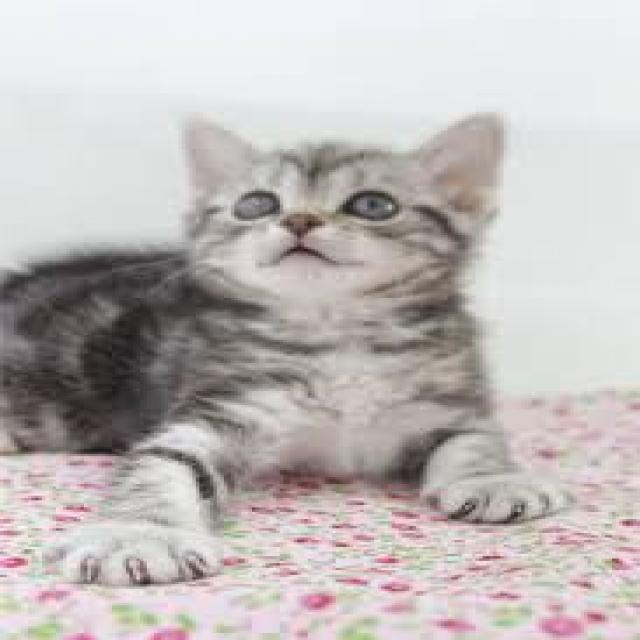cat-face: (137, 94, 593, 364)
